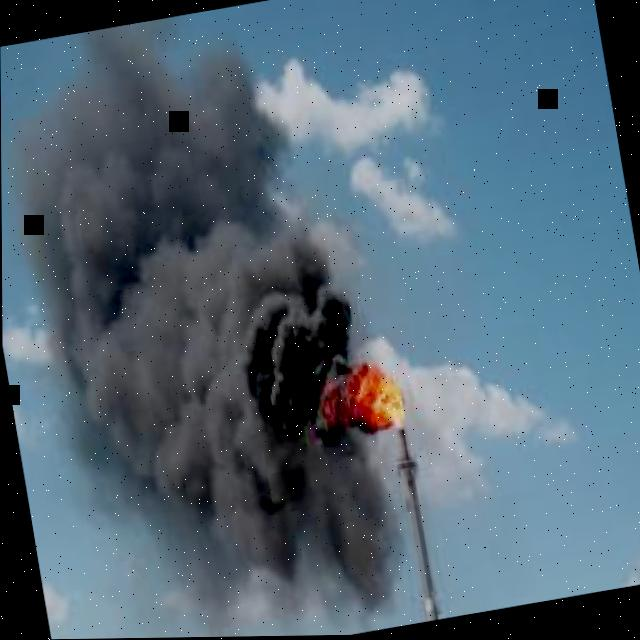fire: (323, 363, 406, 438)
smoke: (3, 16, 406, 638)
